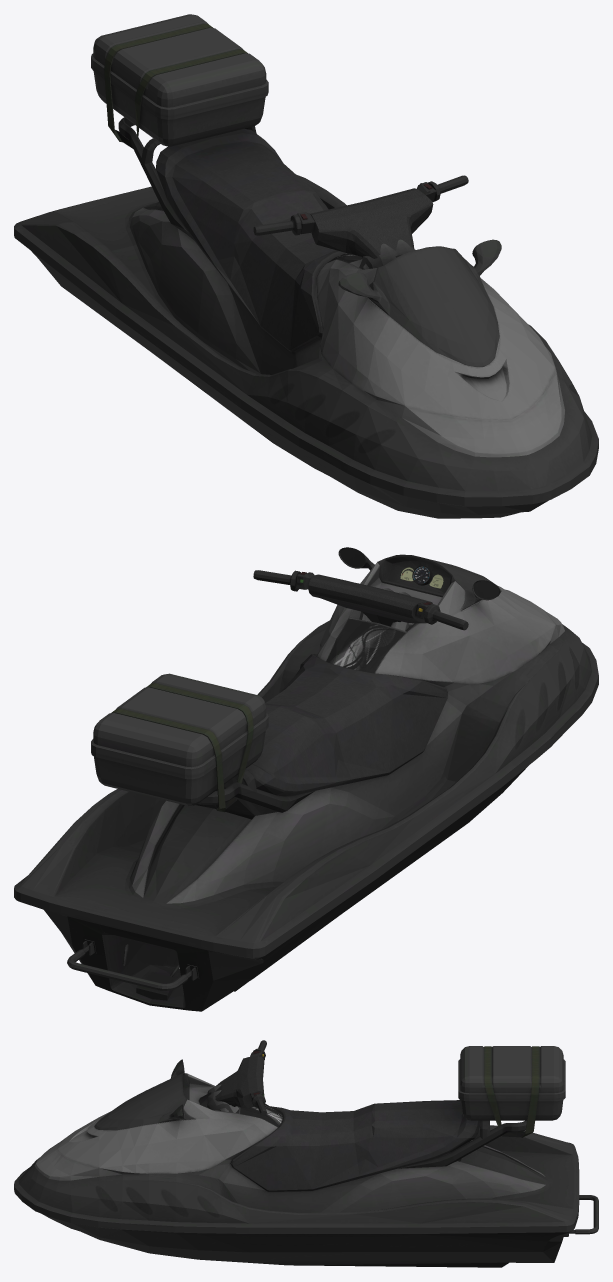
The model's file is jet_ski.dae.
3 views of the same model, one above another, from view 1: azimuth 30°, elevation 25°; view 2: azimuth 150°, elevation 25°; view 3: azimuth 270°, elevation 25° (orthographic). The views are drawn at different scales.
Bounding box in the file's own units: 0.8808 × 0.898 × 2.5.
1 material, 1 textured.
